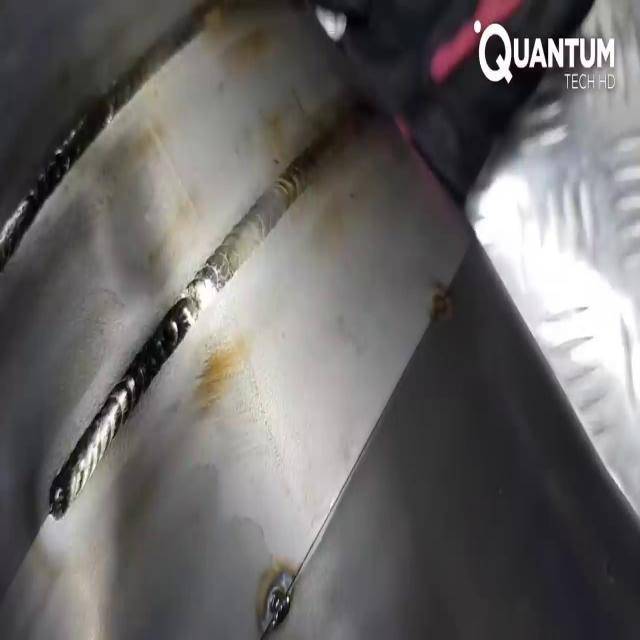Good Weld: (70, 309, 198, 497), (19, 77, 179, 212), (212, 167, 326, 287)
